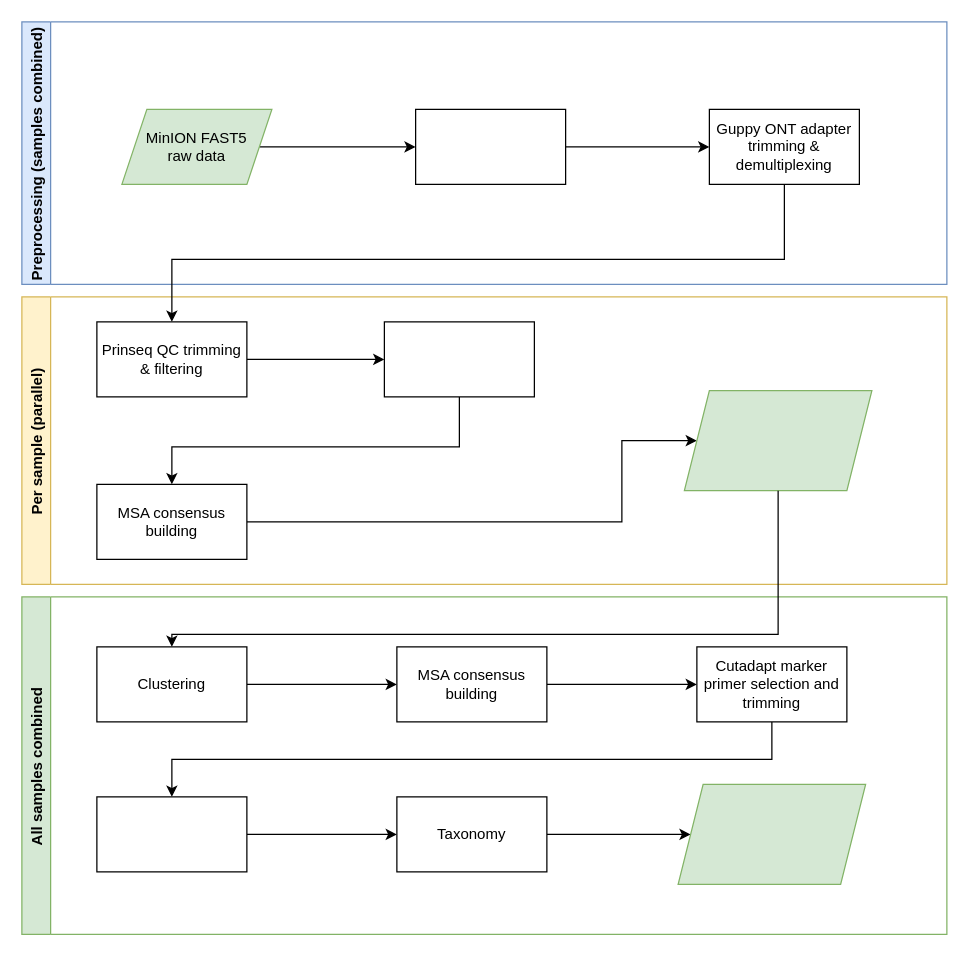
Some shapes in this 969 by 956 pixel diagram are drawn without their labels. Each missing label, with the centre of its shape:
BLAST analysis: (171,834)
Clustering CD-HIT: (458,359)
Consesus sequences per sample: (777,440)
Guppy Basecalling: (490,146)
Taxonomy summary per marker: (771,833)
